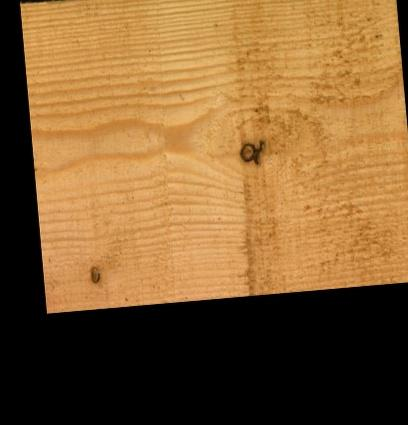dry_knot: (87, 262, 100, 283)
